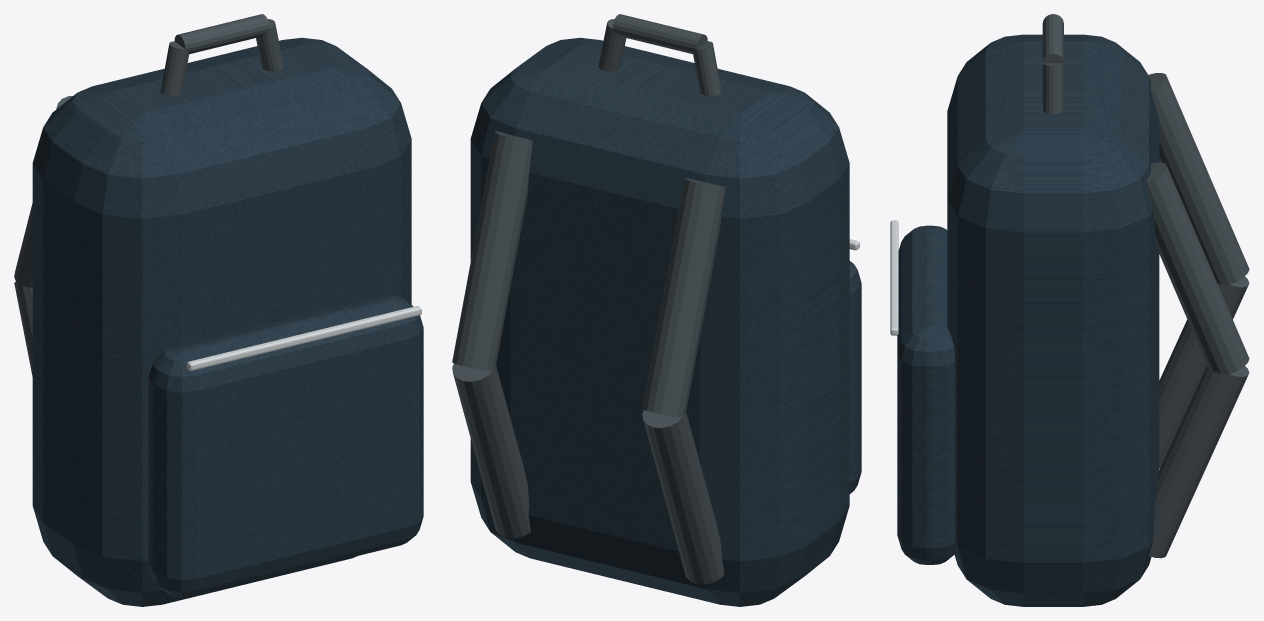
Rendered from travel-backpack.glb.
3 views of the same model, side by side, from view 1: azimuth 30°, elevation 25°; view 2: azimuth 150°, elevation 25°; view 3: azimuth 270°, elevation 25° (orthographic). The views are drawn at different scales.
Visible parts, largest first — view 1: FabricBody, FrontPocket, PocketZipper, TopLoopTop, TopLoopL, ShoulderStrapA-0.09, TopLoopR, ShoulderStrapB-0.09; view 2: FabricBody, ShoulderStrapA-0.09, ShoulderStrapA0.09, ShoulderStrapB-0.09, ShoulderStrapB0.09, FrontPocket, TopLoopTop, TopLoopL, TopLoopR; view 3: FabricBody, FrontPocket, ShoulderStrapA0.09, ShoulderStrapB0.09, ShoulderStrapA-0.09, ShoulderStrapB-0.09, TopLoopR, TopLoopTop, PocketZipper.
Part boxes in pixels (x1,y1,x2,y2): FabricBody: (32, 37, 411, 606); FrontPocket: (148, 295, 423, 597); PocketZipper: (187, 306, 421, 370); TopLoopTop: (174, 14, 269, 54); TopLoopL: (160, 41, 189, 96); ShoulderStrapA-0.09: (14, 96, 72, 287); TopLoopR: (256, 19, 283, 71); ShoulderStrapB-0.09: (14, 282, 32, 376); FabricBody: (470, 37, 849, 606); ShoulderStrapA-0.09: (642, 178, 725, 416); ShoulderStrapA0.09: (452, 131, 532, 370); ShoulderStrapB-0.09: (642, 410, 724, 584); ShoulderStrapB0.09: (452, 363, 530, 538); FrontPocket: (849, 261, 861, 493); TopLoopTop: (612, 14, 707, 53); TopLoopL: (693, 41, 721, 96); TopLoopR: (598, 19, 626, 71); FabricBody: (947, 34, 1159, 606); FrontPocket: (897, 225, 956, 564); ShoulderStrapA0.09: (1146, 162, 1249, 374); ShoulderStrapB0.09: (1149, 365, 1249, 558); ShoulderStrapA-0.09: (1148, 73, 1249, 285); ShoulderStrapB-0.09: (1159, 276, 1249, 468); TopLoopR: (1042, 63, 1063, 114); TopLoopTop: (1042, 14, 1063, 63); PocketZipper: (890, 220, 898, 335).
Bounding box in the file's own units: 0.31 × 0.489 × 0.3053.
Materials: 3 (1 with a texture image).
